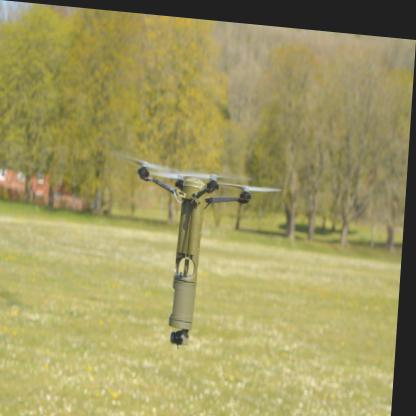UAS: (102, 145, 285, 352)
